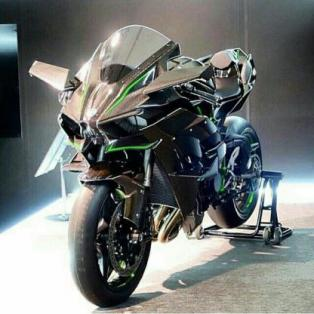Motocicleta: (22, 25, 268, 312)
